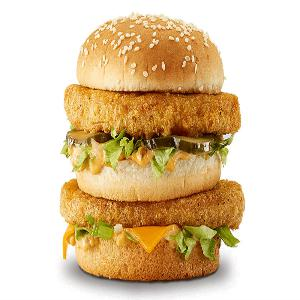cheeseburger_475cal: (57, 10, 249, 300)
